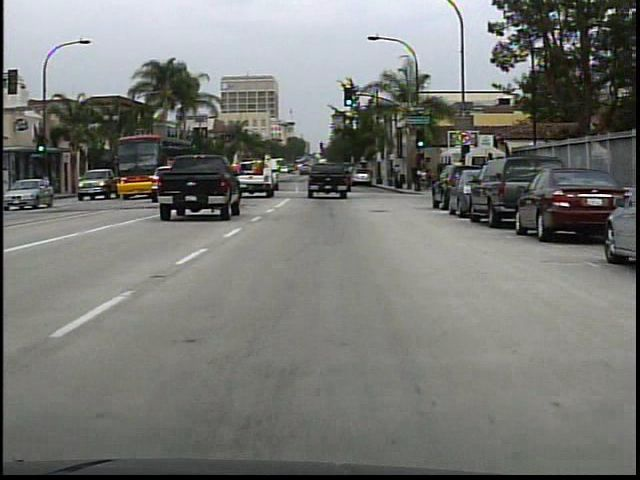person: (419, 167, 429, 192), (426, 169, 434, 191)
